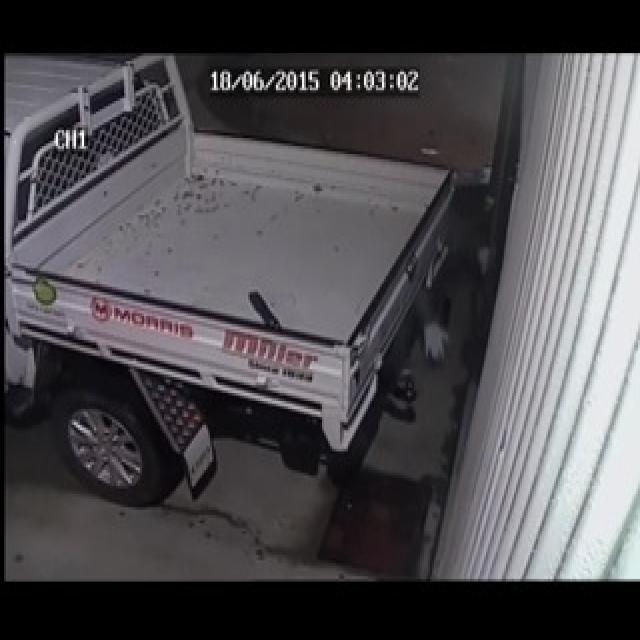thief: (448, 169, 503, 304)
